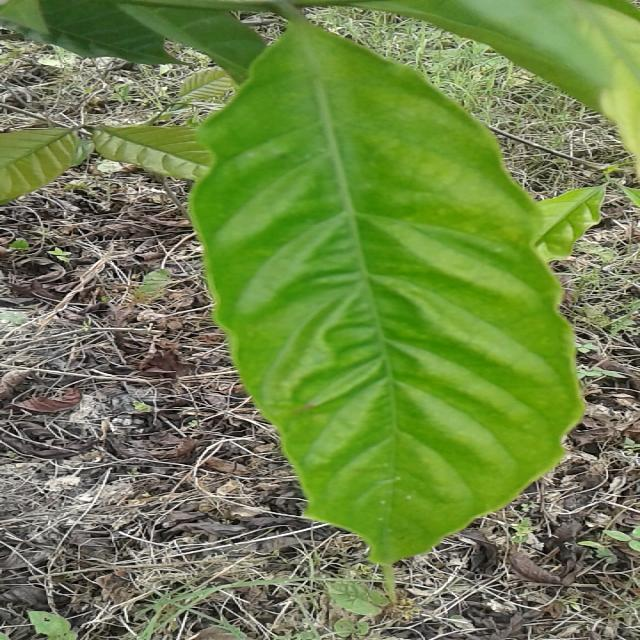Sanas: (177, 20, 605, 569)
